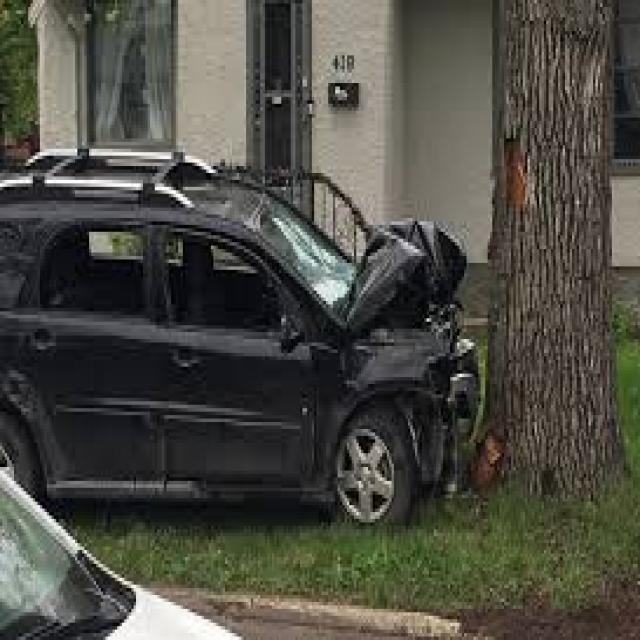accident: (98, 111, 562, 538)
